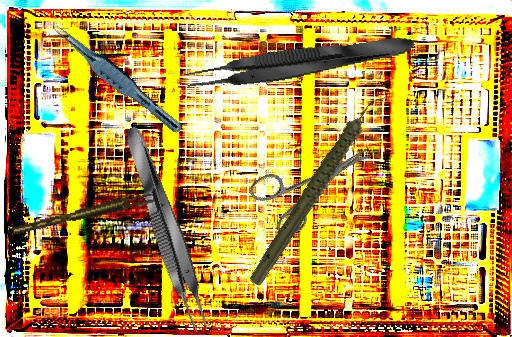Handpiece: (215, 90, 422, 290)
Iris Scissors: (246, 124, 389, 243)
Tissue Forceps: (117, 122, 217, 336), (46, 20, 189, 135), (182, 28, 418, 97), (10, 192, 157, 235)
